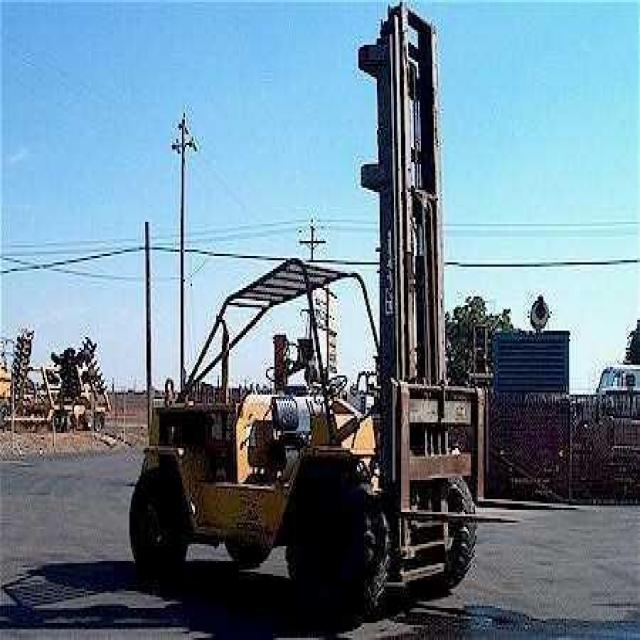Chariot elevateur: (117, 0, 514, 636)
